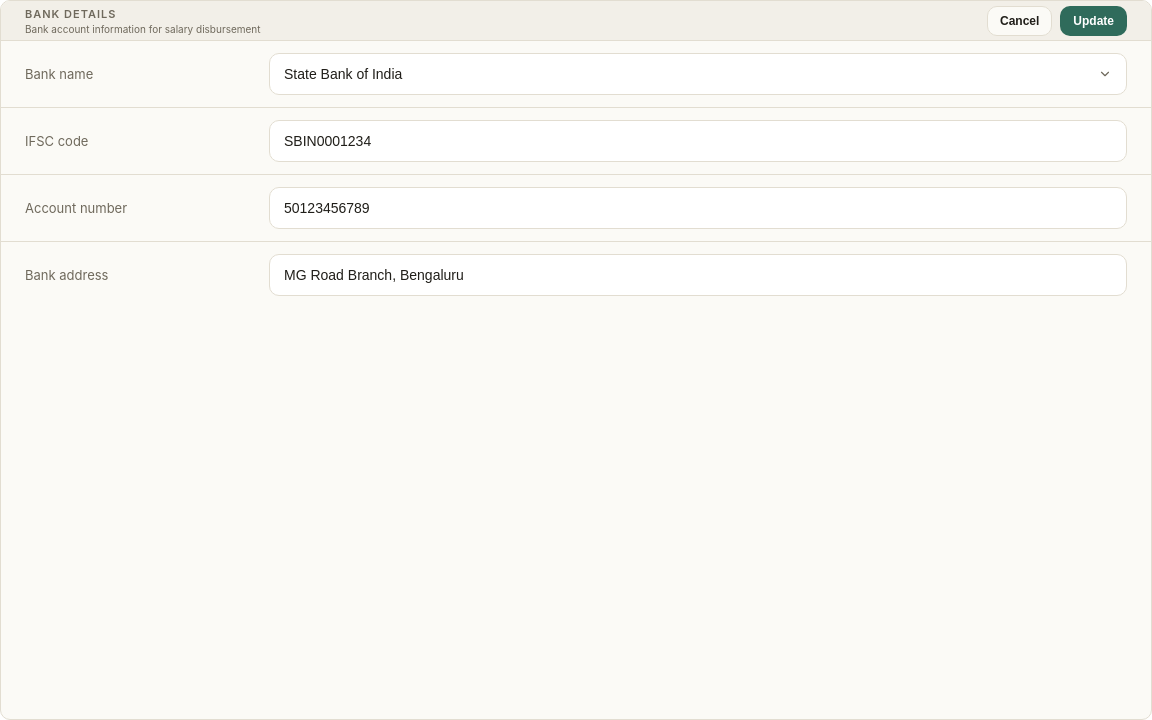
Test: BankSection — edit mode › prefills the org values and reverts on Cancel
The width and height of the screenshot is (1152, 720).
Step 1. Replace the text in the field showing "SBIN0001234" in the row of "IFSC code" with "SBIN0009999" → (698, 141), box [269,120,1127,162]
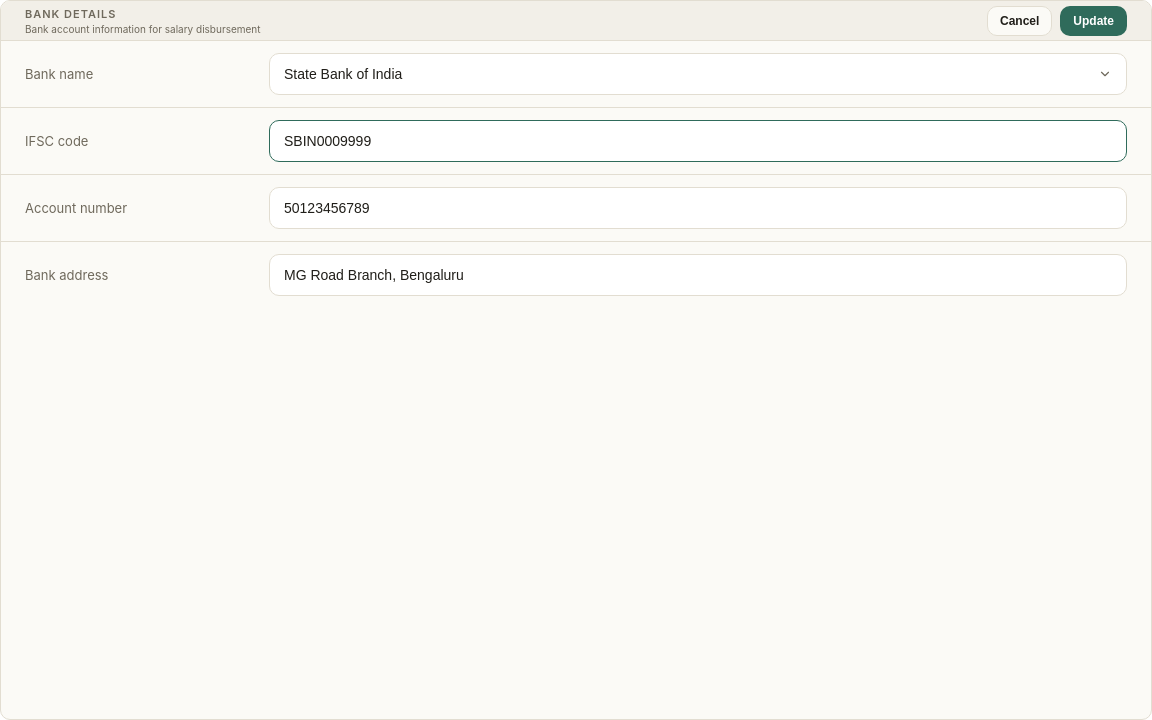
Step 2. Click the button "Cancel" → (1020, 20), box [987,6,1052,36]
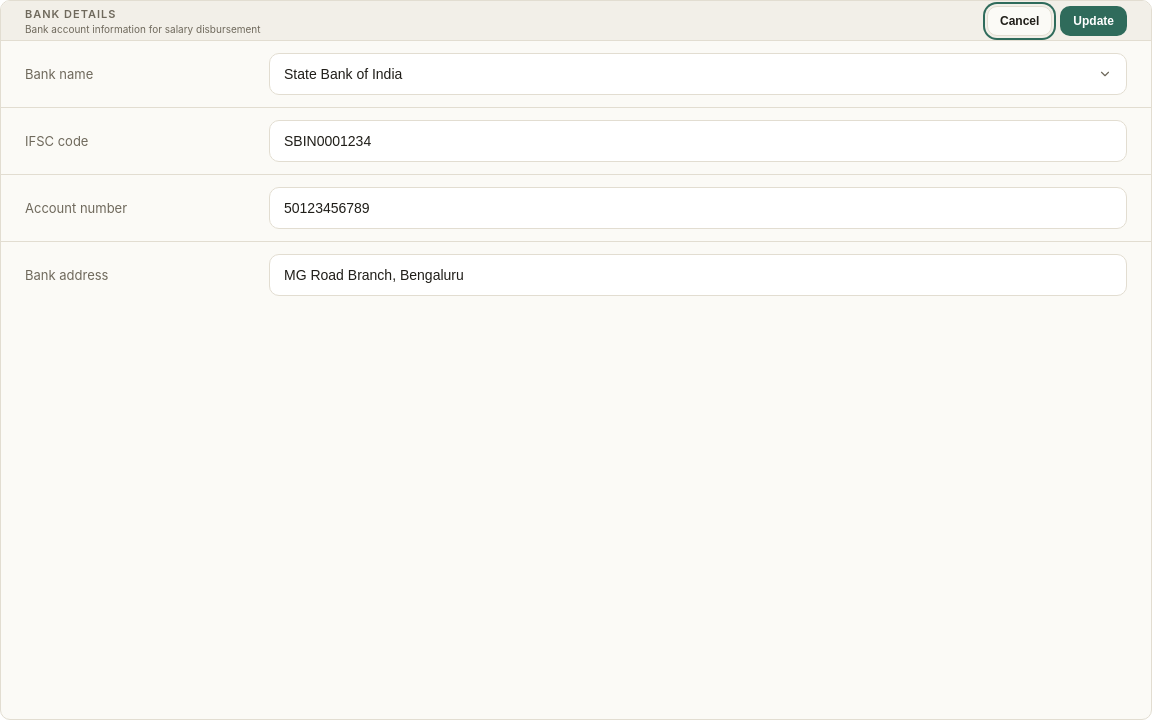
Now the field showing "SBIN0001234" in the row of "IFSC code" is shown, box [269,120,1127,162]
